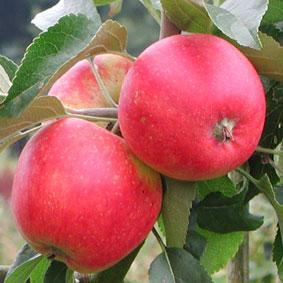apple: (8, 118, 163, 270), (118, 29, 264, 182)
